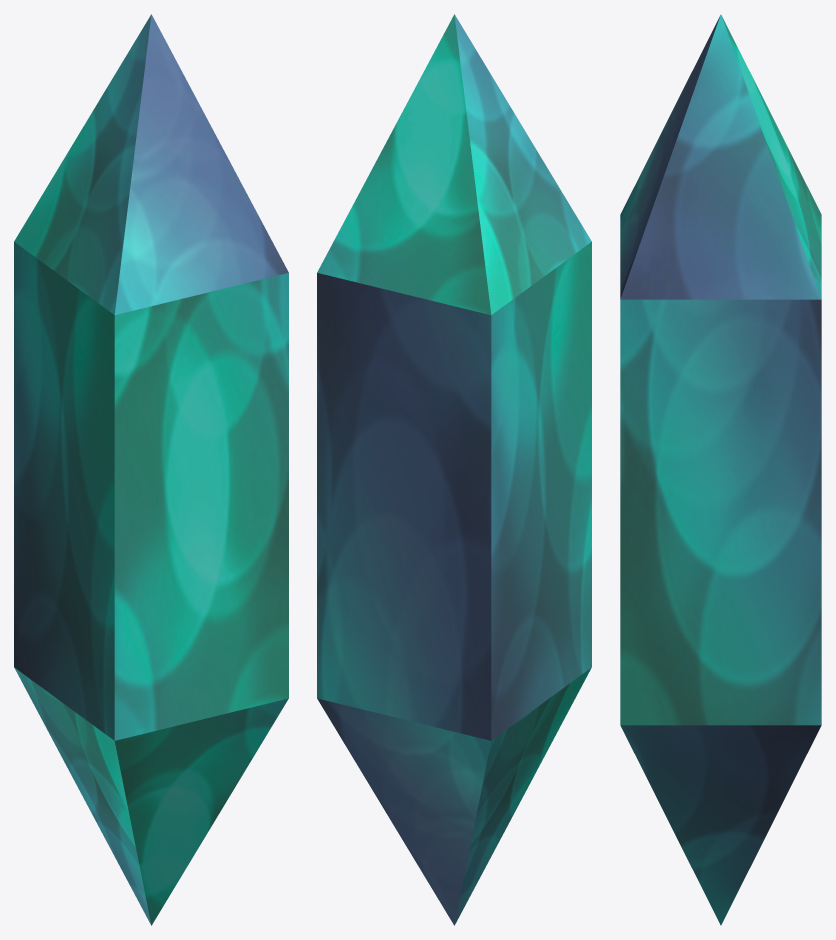
The model's file is energy_stone_excellent.obj.
The picture shows the model from 3 angles, left to right: view 1: azimuth 30°, elevation 25°; view 2: azimuth 150°, elevation 25°; view 3: azimuth 270°, elevation 25°; orthographic projection.
Visible parts, largest first — view 1: Cube, Pyramid; view 2: Cube, Pyramid; view 3: Cube, Pyramid.
Part boxes in pixels (<box>): Cube: <box>14,242,288,740</box>; Pyramid: <box>14,14,288,925</box>; Cube: <box>317,242,591,740</box>; Pyramid: <box>317,14,591,925</box>; Cube: <box>620,299,821,725</box>; Pyramid: <box>620,14,821,925</box>.
Bounding box in the file's own units: 3 × 15 × 3.
